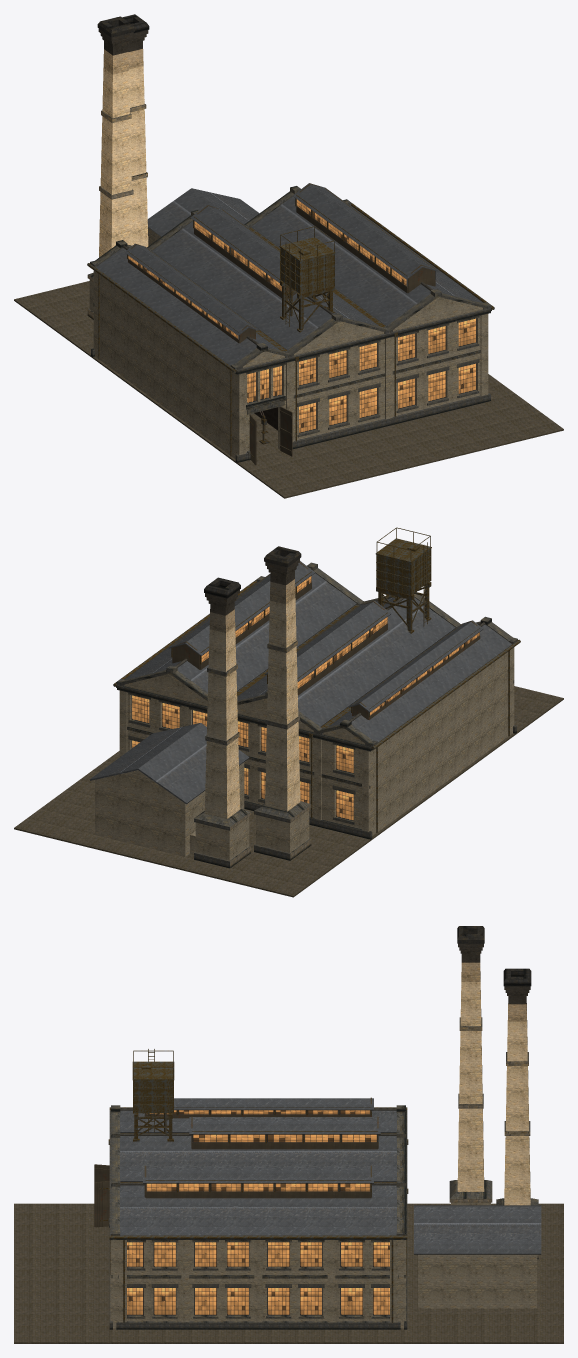
File: no-2-flat-out-factory.glb
3 renders of one model, top to bottom at view 1: azimuth 30°, elevation 25°; view 2: azimuth 150°, elevation 25°; view 3: azimuth 270°, elevation 25°, orthographic.
Parts seen in each view (by area): view 1: no-2-mill-roof, no-2-mill-walls, no-2-yard-setts, no-2-mill-stonework, no-2-chimney-a, no-2-chimney-b, no-2-mill-ironwork, no-2-mill-timber, no-2-water-tank, no-2-boiler-house-building, no-2-tank-trestle; view 2: no-2-mill-roof, no-2-mill-walls, no-2-yard-setts, no-2-boiler-house-building, no-2-chimney-a, no-2-chimney-b, no-2-mill-stonework, no-2-mill-ironwork, no-2-water-tank, no-2-mill-timber, no-2-tank-trestle, no-2-window-back-ground-01 (+1 smaller); view 3: no-2-mill-roof, no-2-yard-setts, no-2-boiler-house-building, no-2-mill-walls, no-2-mill-stonework, no-2-chimney-a, no-2-chimney-b, no-2-mill-timber, no-2-mill-ironwork, no-2-water-tank, no-2-tank-trestle, no-2-loading-door-right (+12 smaller).
Boxes of the visible parts, <box> form: no-2-mill-roof: <box>96,183,483,365</box>; no-2-mill-walls: <box>93,270,488,458</box>; no-2-yard-setts: <box>14,281,563,498</box>; no-2-mill-stonework: <box>90,186,491,462</box>; no-2-chimney-a: <box>87,16,134,319</box>; no-2-chimney-b: <box>122,14,149,247</box>; no-2-mill-ironwork: <box>87,188,494,456</box>; no-2-mill-timber: <box>128,183,435,343</box>; no-2-water-tank: <box>279,237,335,294</box>; no-2-boiler-house-building: <box>147,188,259,245</box>; no-2-tank-trestle: <box>280,226,335,332</box>; no-2-mill-roof: <box>124,561,511,742</box>; no-2-mill-walls: <box>119,647,514,835</box>; no-2-yard-setts: <box>14,686,563,897</box>; no-2-boiler-house-building: <box>89,723,249,856</box>; no-2-chimney-a: <box>254,546,311,860</box>; no-2-chimney-b: <box>194,577,250,868</box>; no-2-mill-stonework: <box>116,562,517,839</box>; no-2-mill-ironwork: <box>113,571,520,832</box>; no-2-water-tank: <box>375,538,431,595</box>; no-2-mill-timber: <box>172,562,480,719</box>; no-2-tank-trestle: <box>376,527,431,633</box>; no-2-window-back-ground-01: <box>336,790,353,820</box>; no-2-mill-roof: <box>120,1098,396,1235</box>; no-2-yard-setts: <box>14,1203,563,1343</box>; no-2-boiler-house-building: <box>414,1205,541,1308</box>; no-2-mill-walls: <box>110,1239,406,1328</box>; no-2-mill-stonework: <box>109,1105,407,1329</box>; no-2-chimney-a: <box>449,926,492,1205</box>; no-2-chimney-b: <box>496,968,538,1259</box>; no-2-mill-timber: <box>144,1097,378,1198</box>; no-2-mill-ironwork: <box>108,1107,408,1322</box>; no-2-water-tank: <box>132,1061,174,1113</box>; no-2-tank-trestle: <box>133,1049,173,1141</box>; no-2-loading-door-right: <box>94,1181,109,1227</box>.
Bounding box in the file's own units: 25.05 × 25.1 × 41.4.
Materials: 28 (24 with a texture image).
